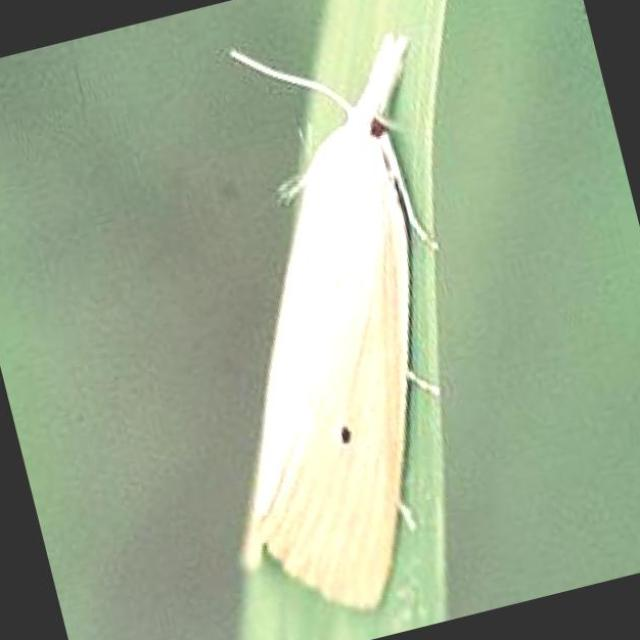stem borer: (231, 36, 440, 609)
